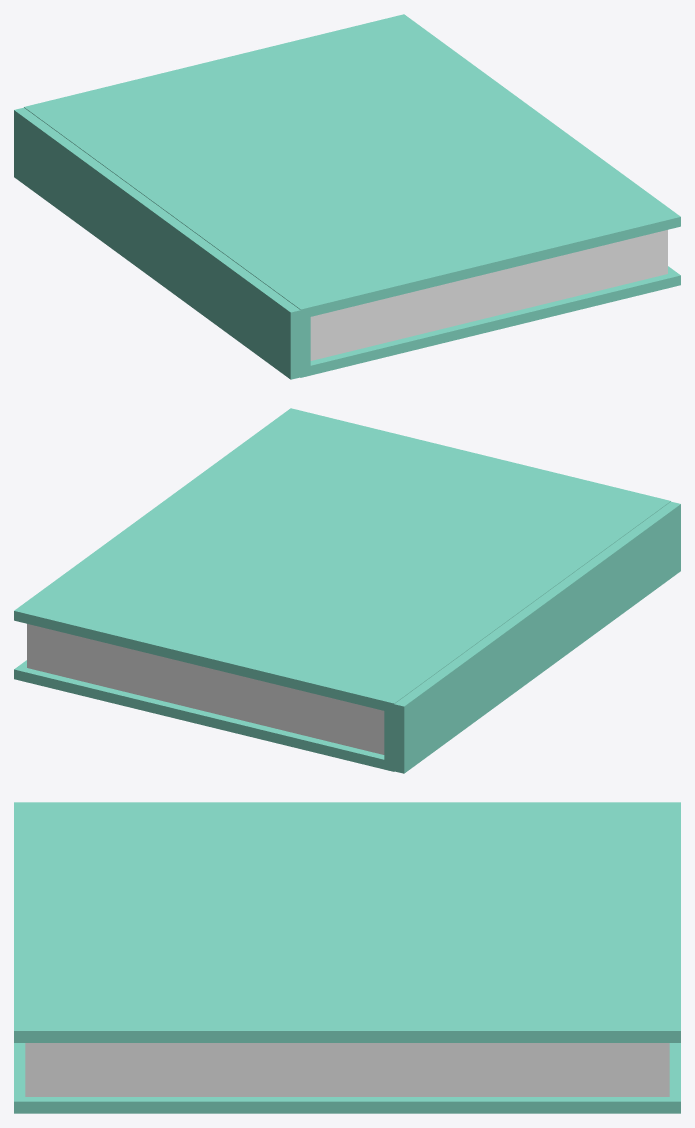
3 renders of one model, top to bottom at view 1: azimuth 30°, elevation 25°; view 2: azimuth 150°, elevation 25°; view 3: azimuth 270°, elevation 25°, orthographic. The views are drawn at different scales.
Visible parts, largest first — view 1: Cover.001, Spine, Pages, Cover; view 2: Cover.001, Spine, Pages, Cover; view 3: Cover.001, Pages, Cover, Spine.
Part boxes in pixels (left/top/right/bottom): Cover.001: left=24, top=14, right=680, bottom=318; Spine: left=14, top=107, right=310, bottom=379; Pages: left=310, top=230, right=667, bottom=360; Cover: left=300, top=266, right=680, bottom=377; Cover.001: left=14, top=408, right=670, bottom=712; Spine: left=384, top=501, right=680, bottom=773; Pages: left=27, top=624, right=384, bottom=754; Cover: left=14, top=660, right=394, bottom=771; Cover.001: left=14, top=807, right=680, bottom=1042; Pages: left=25, top=1043, right=669, bottom=1096; Cover: left=14, top=1043, right=680, bottom=1113; Spine: left=14, top=802, right=680, bottom=807.
Bounding box in the file's own units: 0.2006 × 0.0336 × 0.2465.
Materials: 1 (1 with a texture image).
